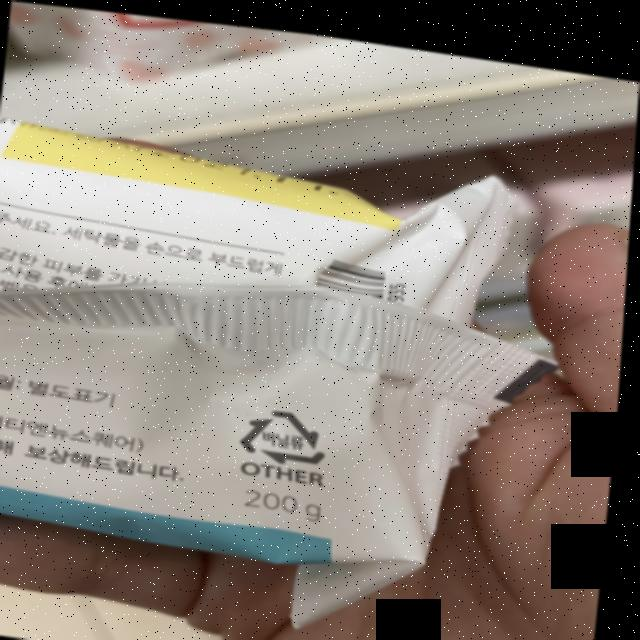Vinyl: (237, 396, 336, 462)
